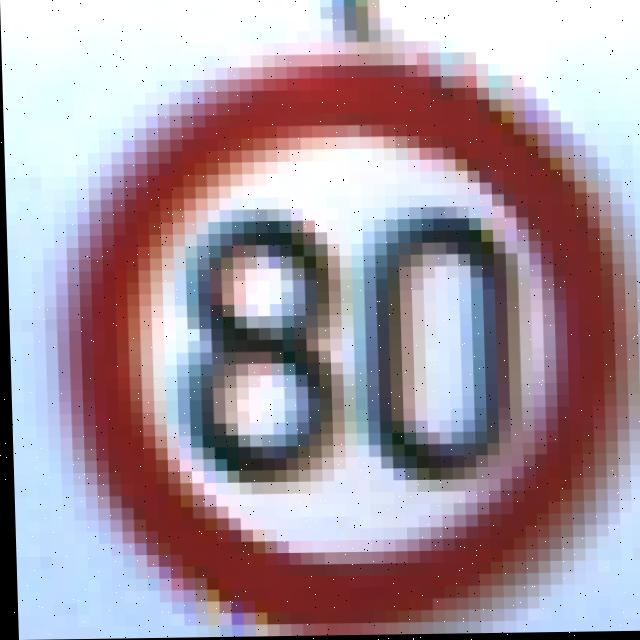speed_limit_80: (73, 42, 614, 611)
